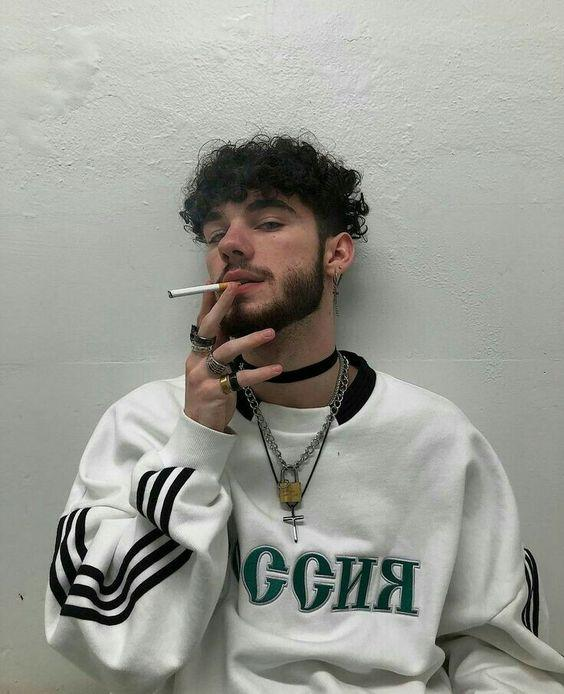cigarette: (167, 280, 239, 298)
